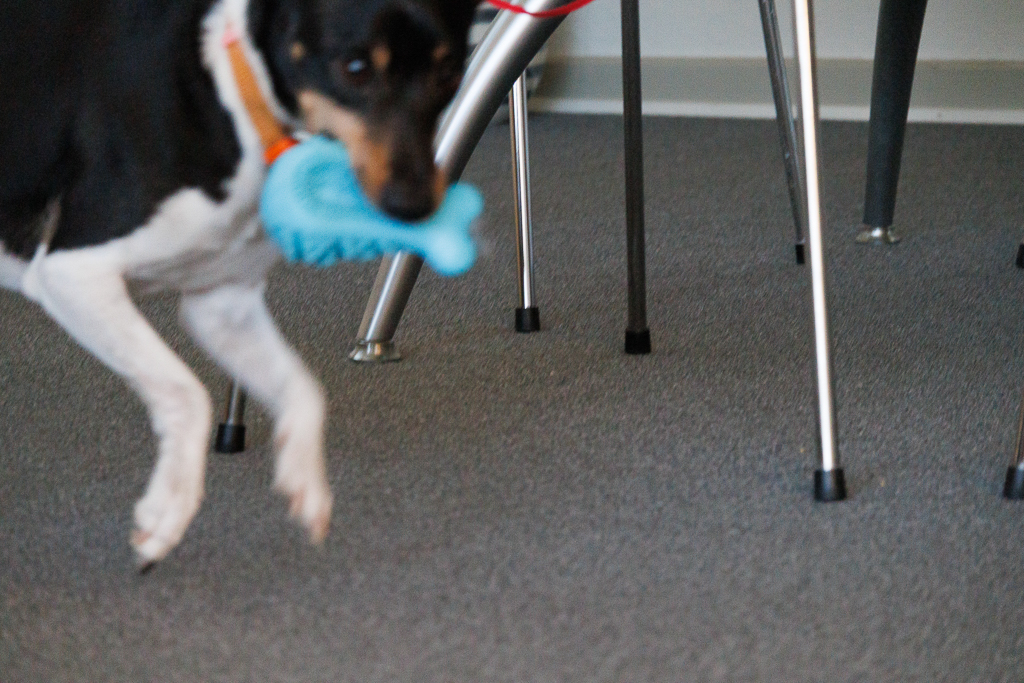Dog: (0, 0, 489, 591)
